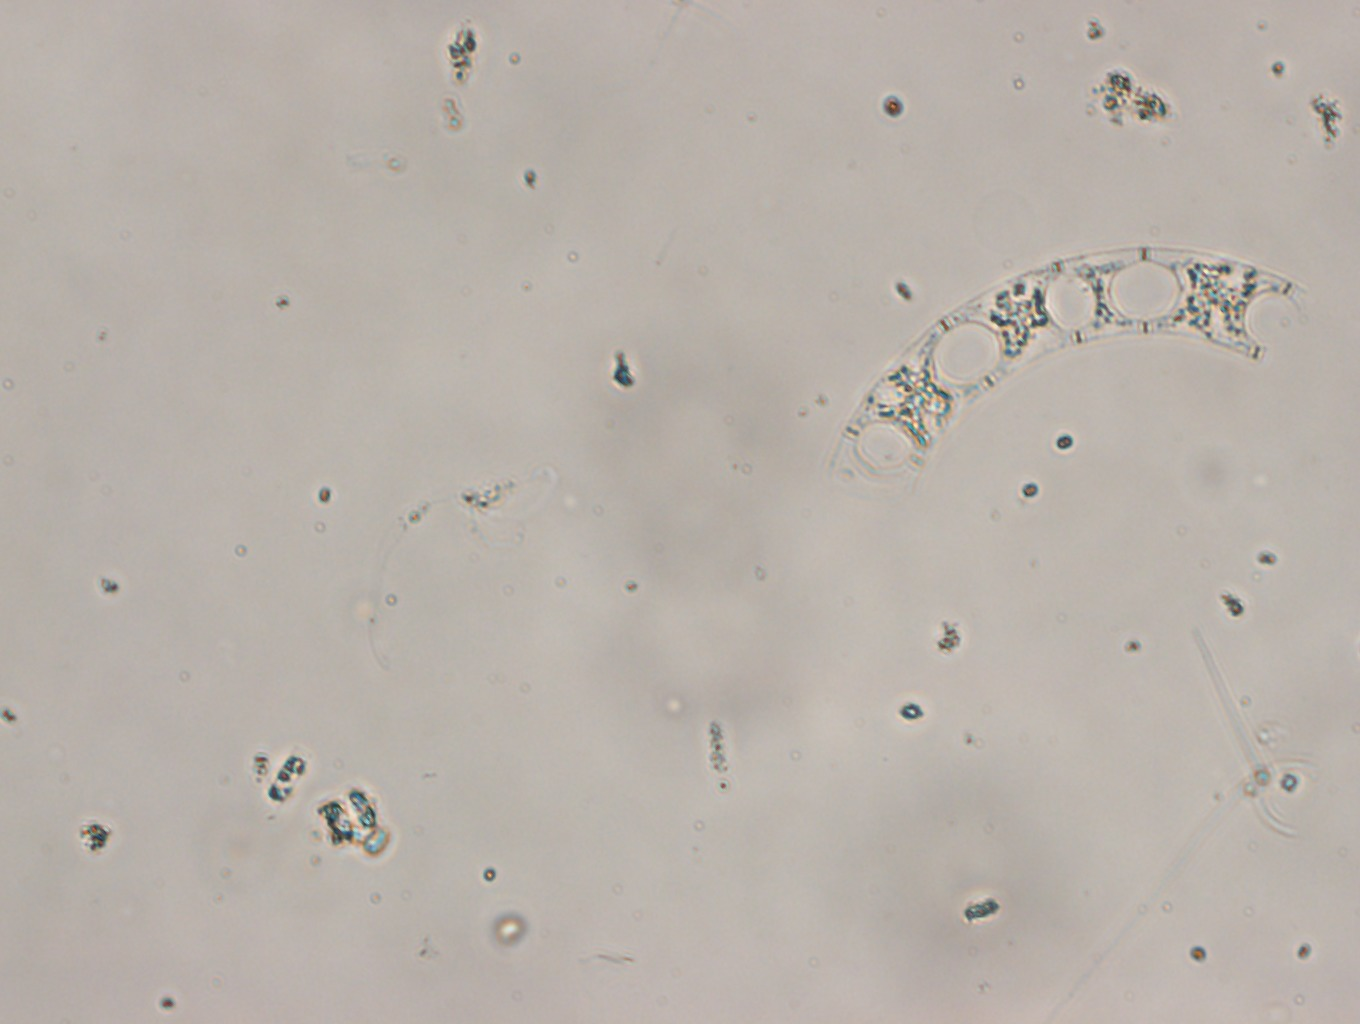eucampia: (802, 223, 1337, 496)
